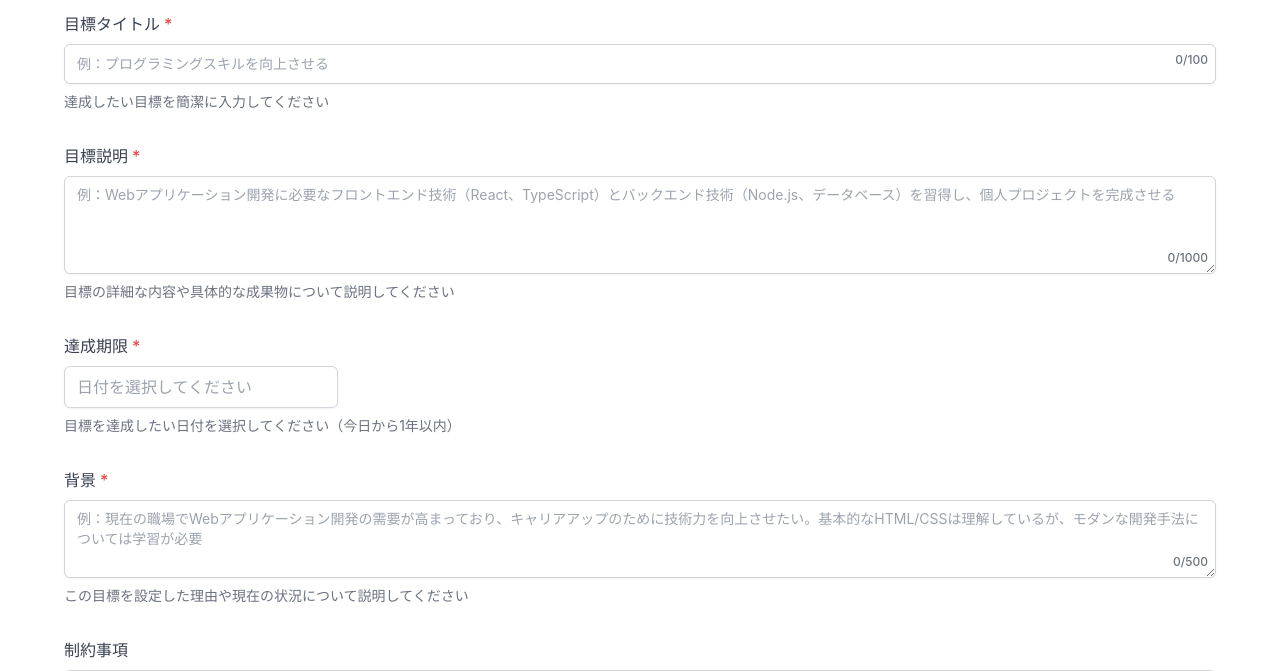
Scenario: GoalInputForm › フォーム入力 › 文字数カウンターが正しく更新される
This screenshot has width=1280, height=671.
Type "テスト" into the field labelled "目標タイトル*" at (640, 64), box [64,44,1216,84]
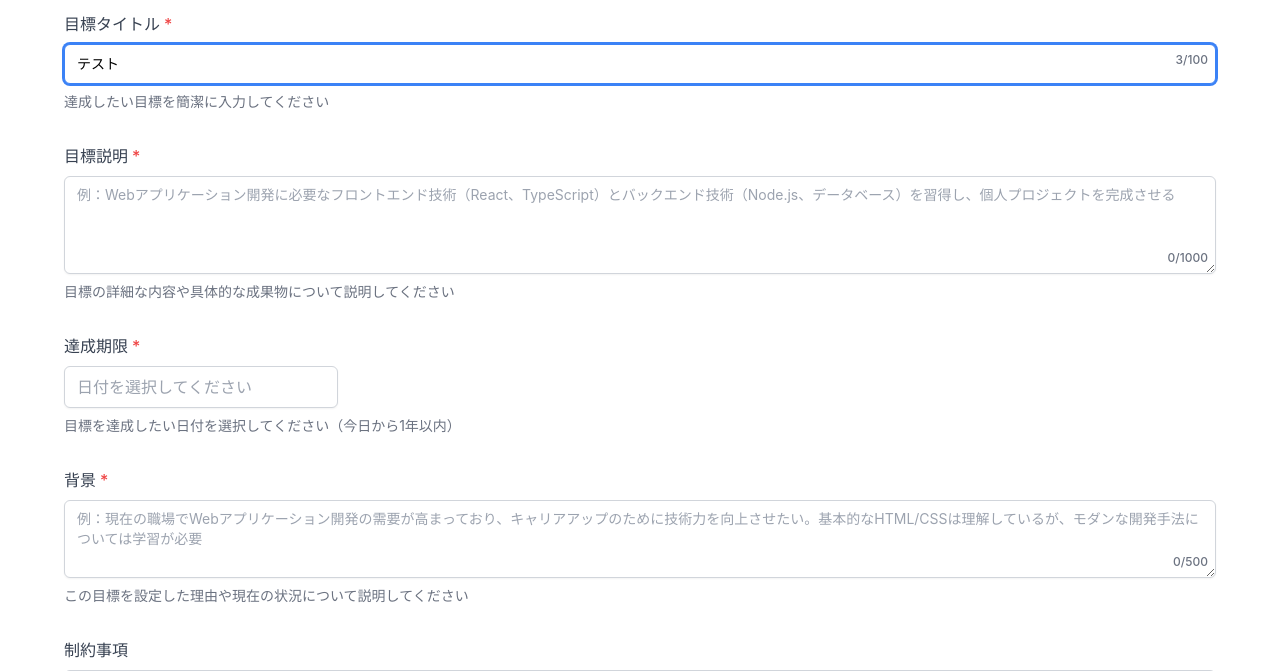
Check: the text "3/100" is shown, box [1176,52,1208,67]
